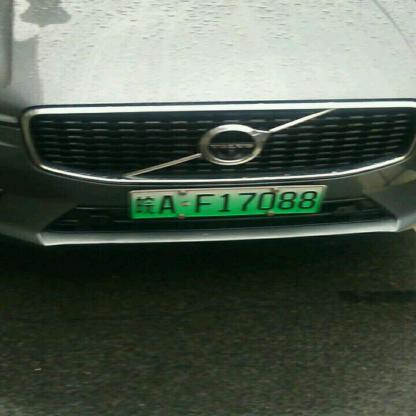lp: (130, 187, 322, 218)
